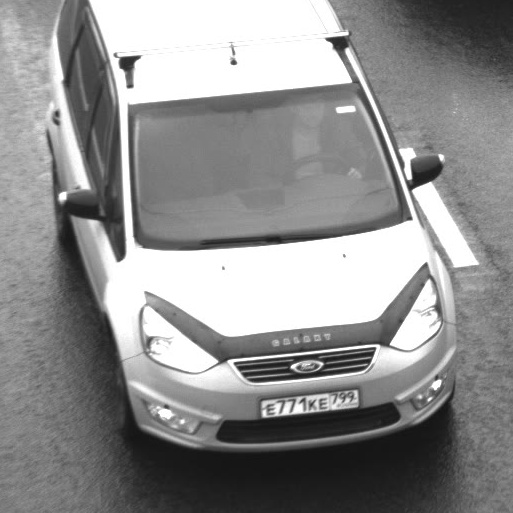plate: (251, 379, 369, 426)
